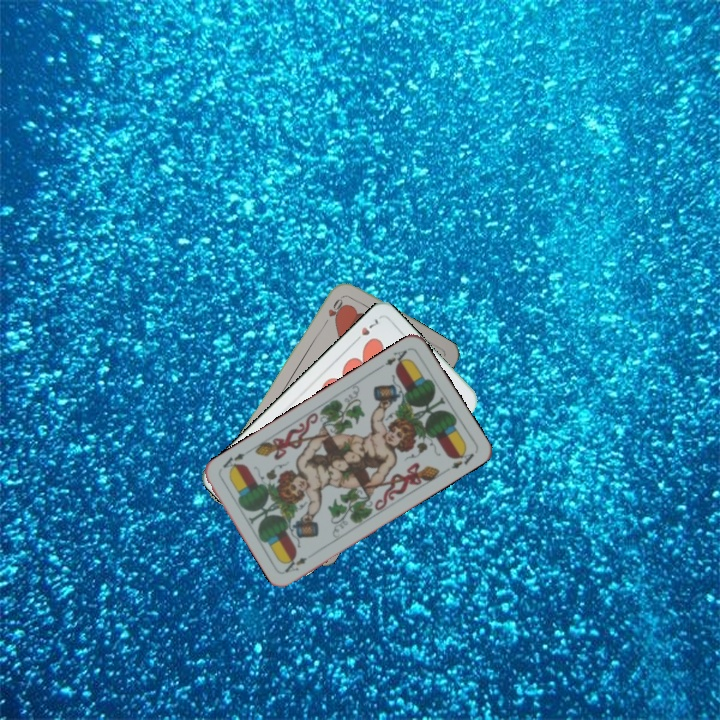EA: (375, 344, 412, 371), (280, 553, 310, 575)
H7: (349, 314, 381, 346)
HO: (319, 292, 347, 328)
